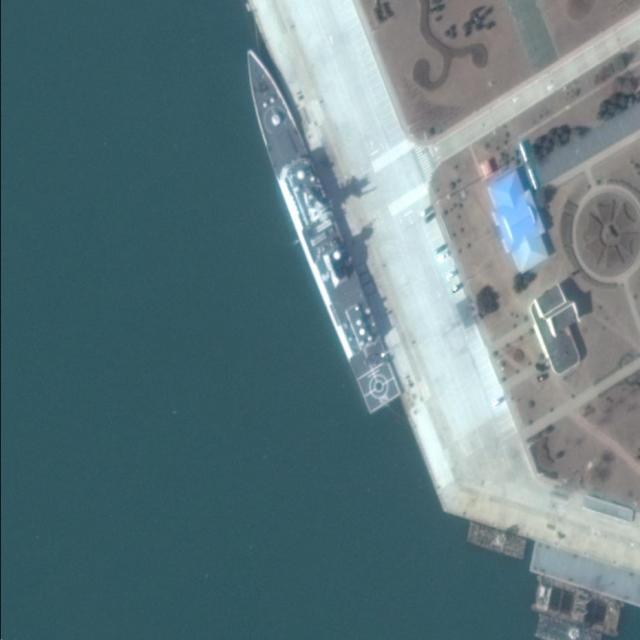Auxiliary Ships: (226, 37, 408, 414)
